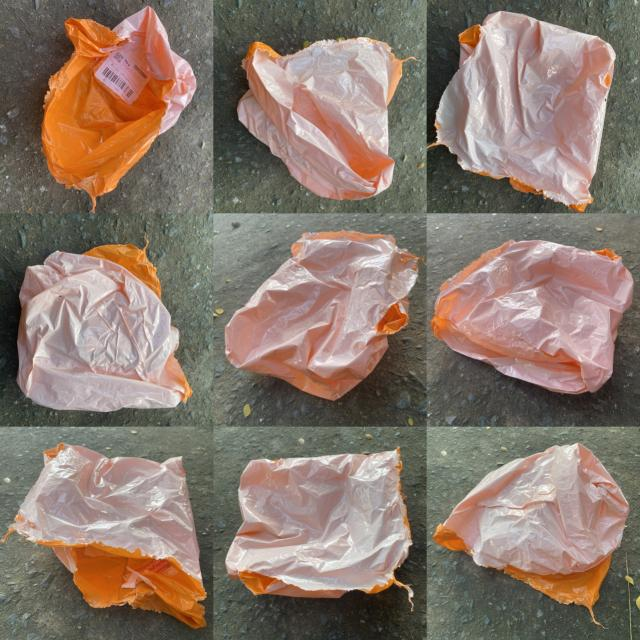Single-layer Plastic: (5, 444, 206, 628), (435, 11, 615, 209), (434, 444, 629, 619), (225, 231, 419, 400), (41, 6, 196, 212), (225, 448, 414, 612), (431, 240, 632, 394), (16, 245, 192, 411), (238, 38, 404, 200)
